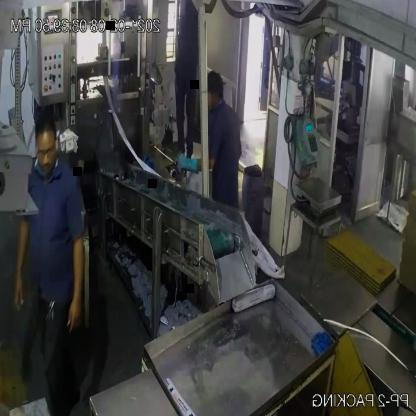glove: (172, 147, 219, 183)
no_glove: (60, 219, 94, 347), (10, 208, 32, 320)
